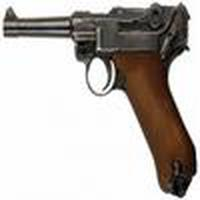gun: (3, 6, 200, 199)
